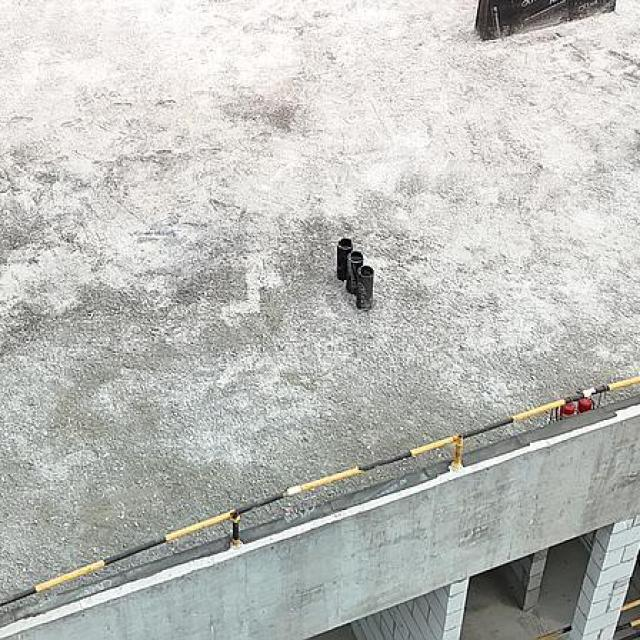edge_guardrail: (0, 375, 640, 611), (615, 599, 640, 633), (534, 624, 573, 640)
